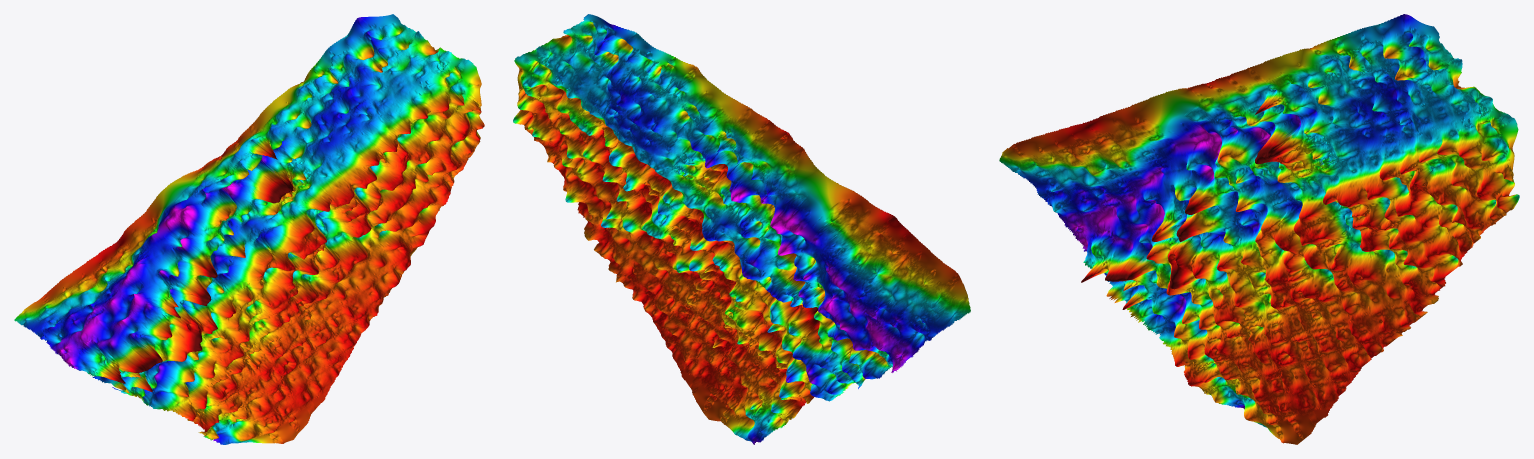
Rendered from topo_Sal.glb.
3 views of the same model, side by side, from view 1: azimuth 30°, elevation 25°; view 2: azimuth 150°, elevation 25°; view 3: azimuth 330°, elevation 25° (orthographic). The views are drawn at different scales.
Parts seen in each view (by area): view 1: Surface.001; view 2: Surface.001; view 3: Surface.001.
Part boxes in pixels (bbox=[...]): Surface.001: bbox=[14, 14, 484, 444]; Surface.001: bbox=[513, 14, 970, 444]; Surface.001: bbox=[999, 14, 1519, 444].
Bounding box in the file's own units: 373600 × 302400 × 51272.
1 material, 1 textured.
